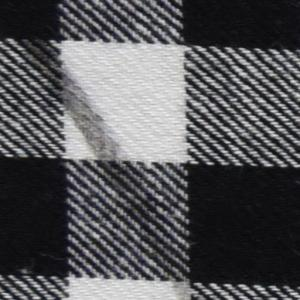Stain: (19, 33, 181, 267)
